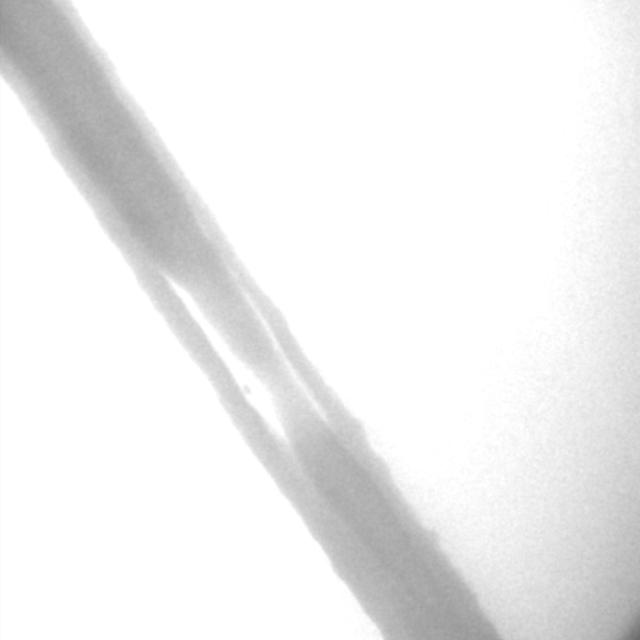unfused: (166, 275, 326, 448)
